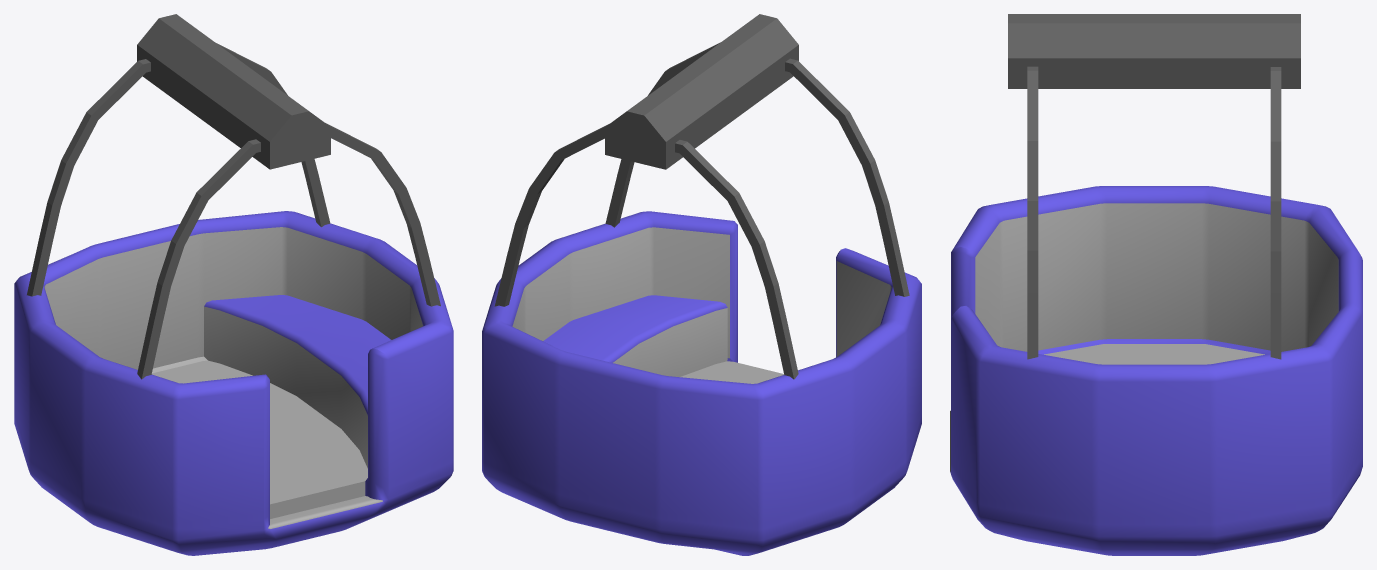
File: cabBlue.fbx
The picture shows the model from 3 angles, left to right: view 1: azimuth 30°, elevation 25°; view 2: azimuth 150°, elevation 25°; view 3: azimuth 270°, elevation 25°; orthographic projection. The views are drawn at different scales.
Parts seen in each view (by area): view 1: Cab Blue; view 2: Cab Blue; view 3: Cab Blue.
Boxes of the visible parts, x1,y1,x2,y2 form: Cab Blue: (14, 14, 453, 555); Cab Blue: (482, 14, 921, 555); Cab Blue: (950, 14, 1362, 555).
Size of the model in its own units: 245 by 223 by 279.
